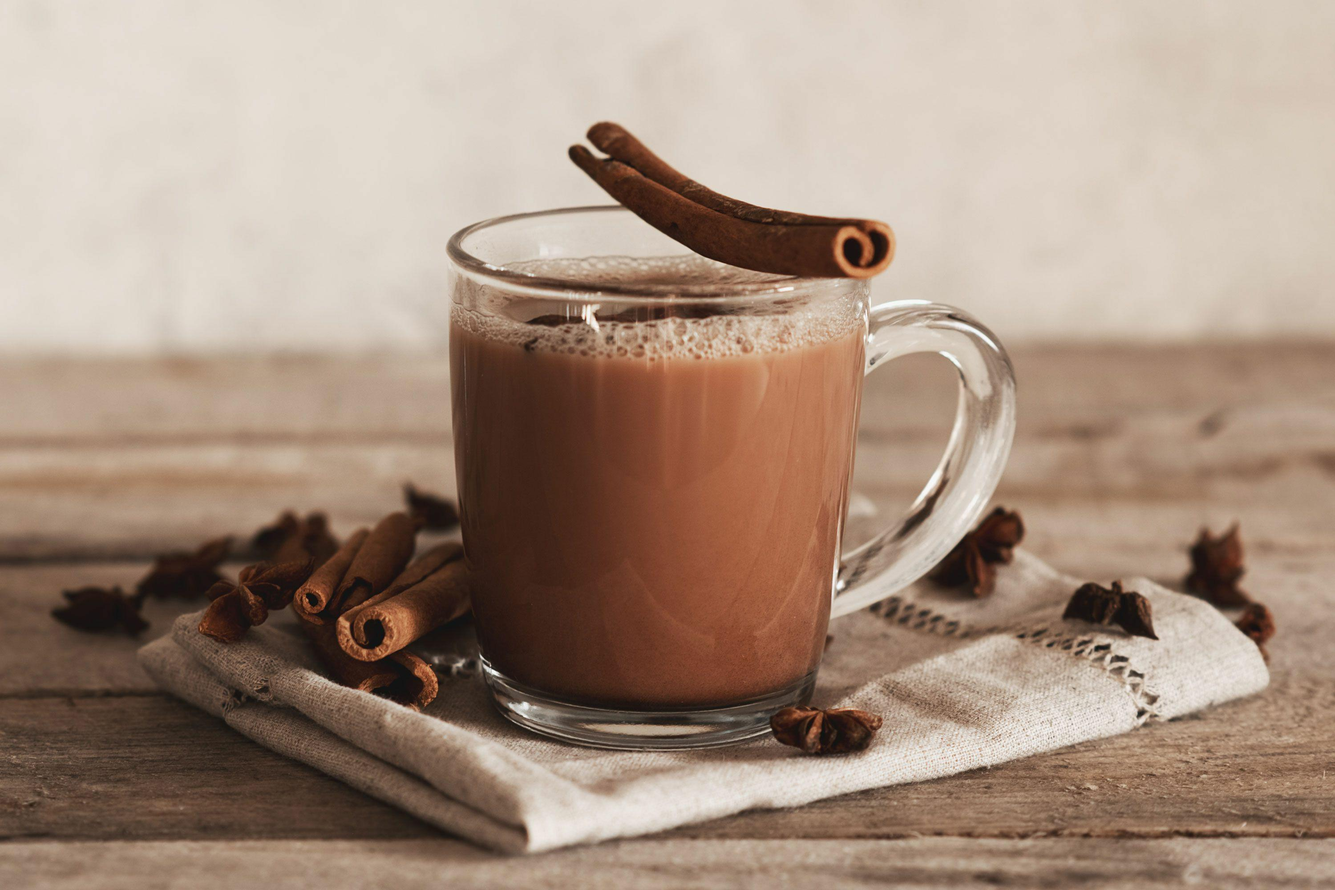Chai: (446, 250, 869, 704)
